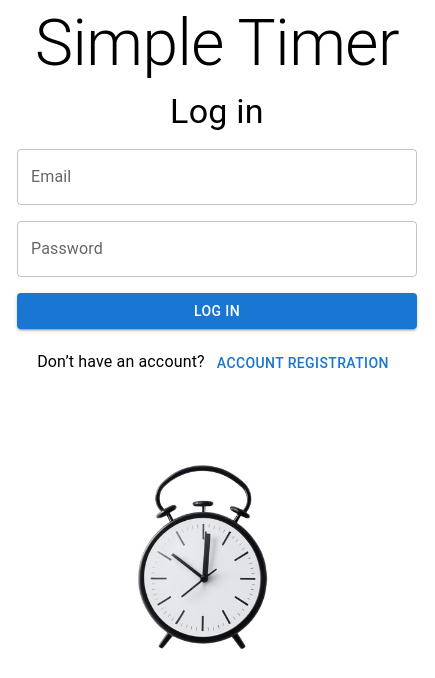
Test: LoginPage › shows error on invalid login
Step 1. Type "wrong@example.com" into the field labelled "Email" → [217, 177], box [17, 149, 417, 205]
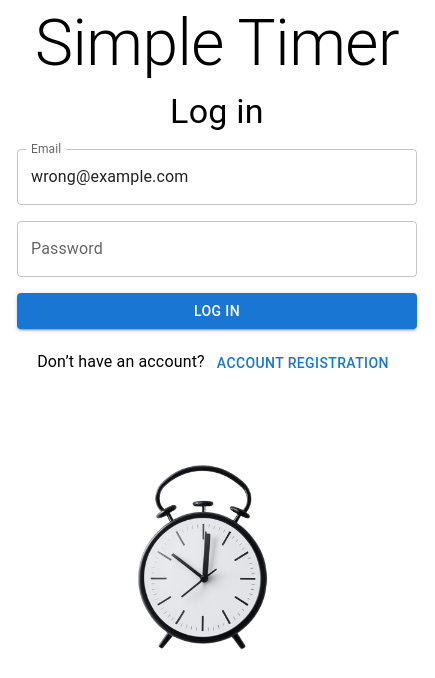
Step 2. Type "wrongpass" into the password field labelled "Password" → [217, 249], box [17, 221, 417, 277]
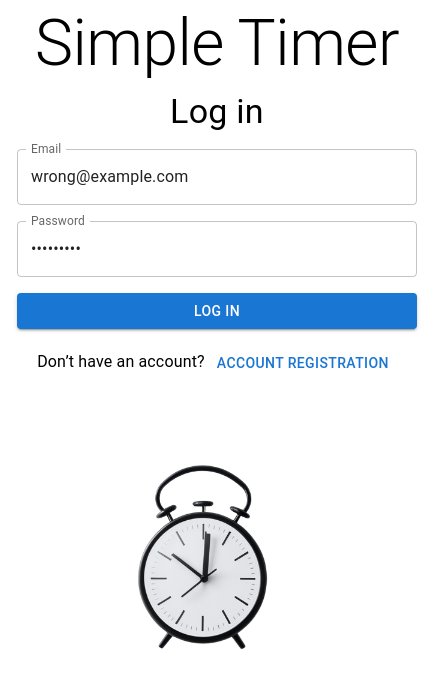
Step 3. Click the button "Log in" → [217, 311], box [17, 293, 417, 329]
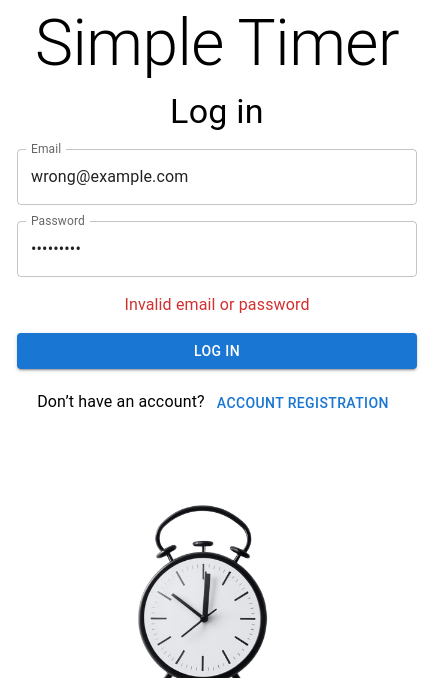
Result: the text "Invalid email or password" is shown at [124, 295, 310, 314]
